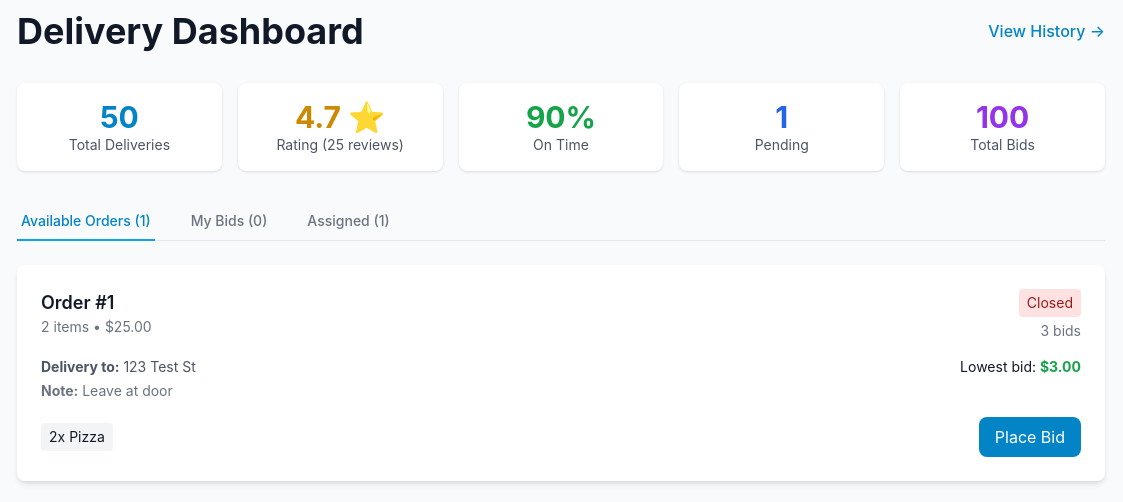
Scenario: DeliveryDashboard › Empty States › shows empty message when no bids placed
Step 1. Click the button "My Bids (0)" → (229, 222), box [187,203,271,241]
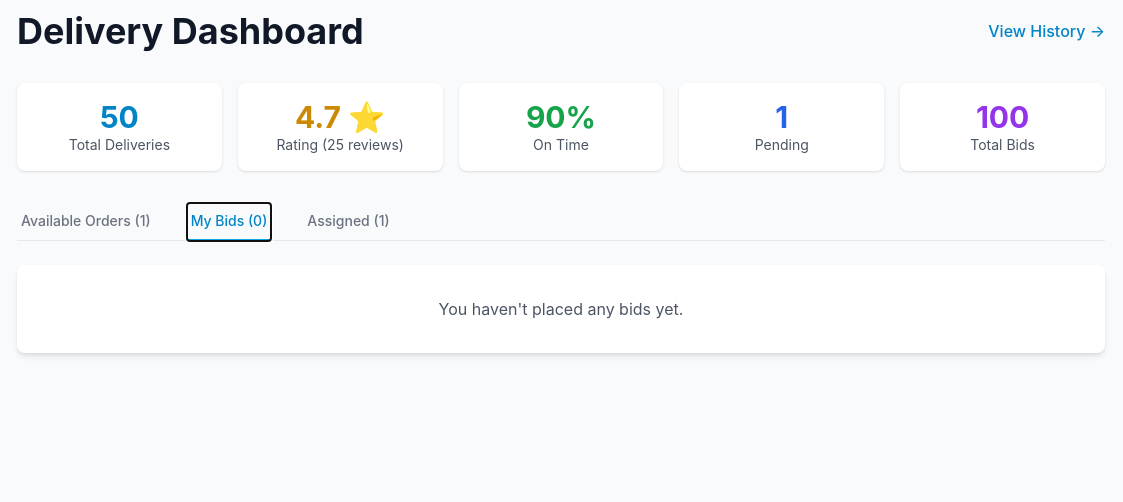
Now the text "You haven't placed any bids yet." is shown, box [439,299,683,319]
